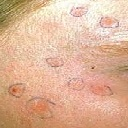Actinic: (99, 41, 128, 58), (31, 99, 48, 115), (74, 9, 84, 15), (11, 86, 19, 93), (104, 18, 113, 24)
